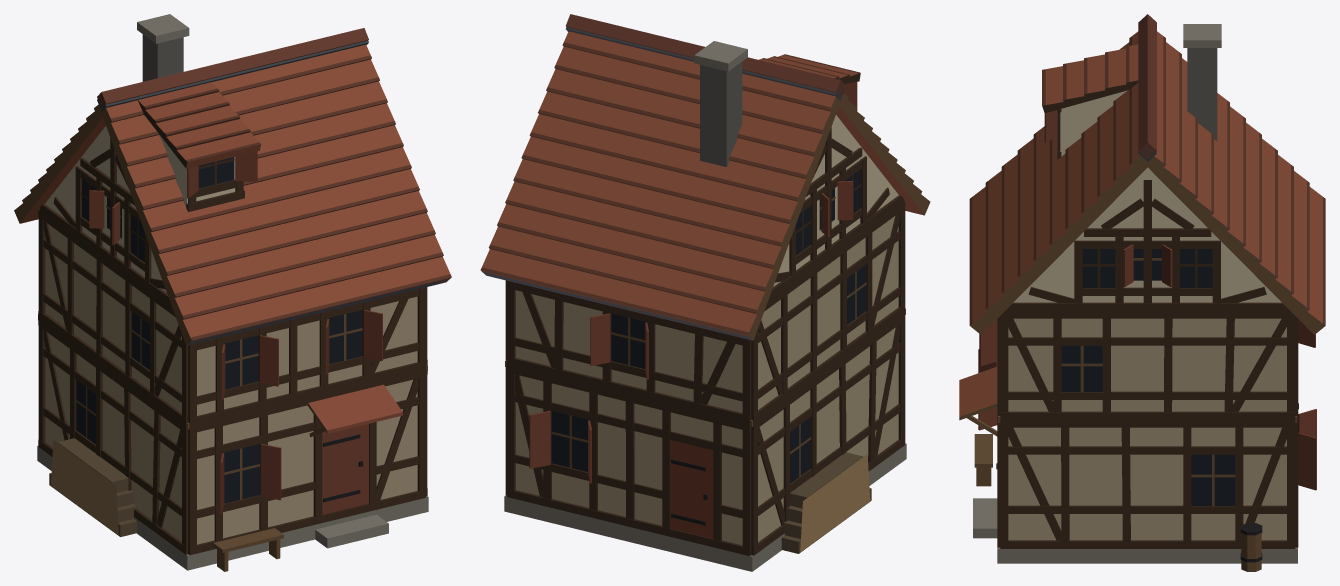
File: einwohner_wohnhaus.glb
3 views of the same model, side by side, from view 1: azimuth 30°, elevation 25°; view 2: azimuth 150°, elevation 25°; view 3: azimuth 270°, elevation 25° (orthographic). The views are drawn at different scales.
Parts seen in each view (by area): view 1: Variante1, Variante3, Variante2; view 2: Variante1, Variante3, Variante2; view 3: Variante1, Variante2, Variante3.
Part boxes in pixels (<box>): Variante1: <box>14,14,451,570</box>; Variante3: <box>17,27,450,536</box>; Variante2: <box>38,190,427,571</box>; Variante1: <box>480,14,930,571</box>; Variante3: <box>482,27,924,553</box>; Variante2: <box>505,181,905,426</box>; Variante1: <box>969,14,1325,571</box>; Variante2: <box>959,244,1297,486</box>; Variante3: <box>973,43,1321,333</box>.
Bounding box in the file's own units: 5.82 × 9.13 × 6.71.
